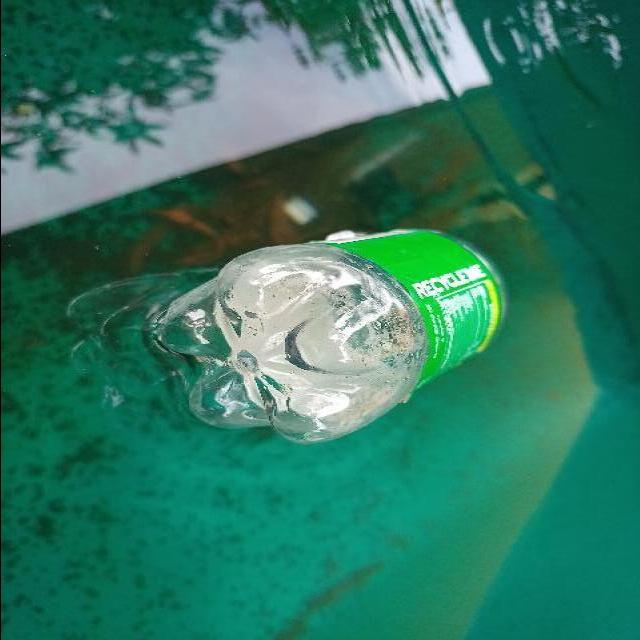Bottle: (150, 223, 509, 449)
